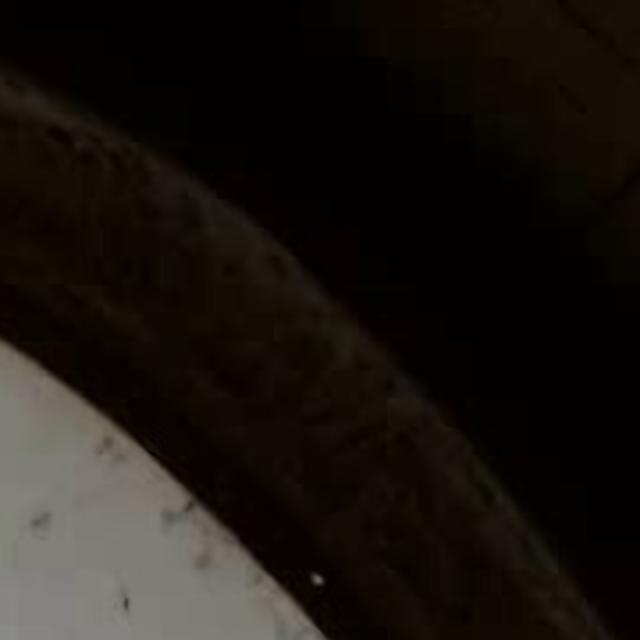shrimp-seed: (114, 572, 150, 622)
